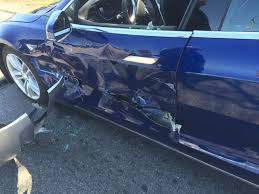doorouter-dent: (54, 23, 183, 136)
fender-dent: (7, 25, 52, 80)
